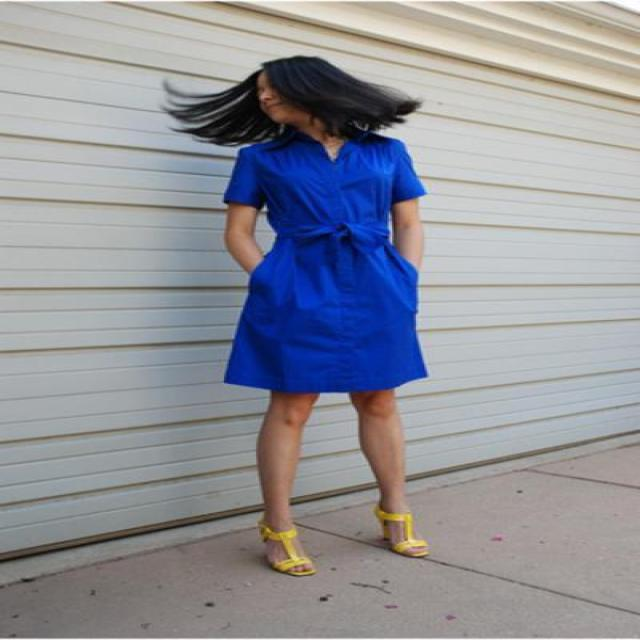dress: (222, 121, 426, 392)
shoe: (238, 502, 424, 568)
